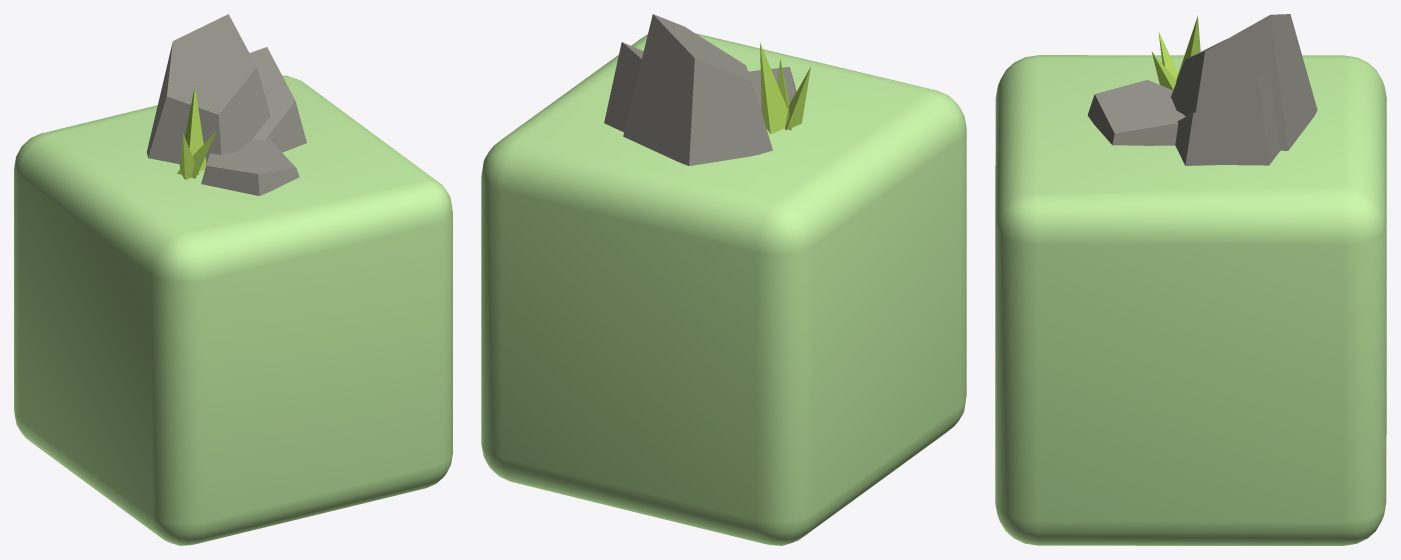
File: stone1.fbx
The picture shows the model from 3 angles, left to right: view 1: azimuth 30°, elevation 25°; view 2: azimuth 150°, elevation 25°; view 3: azimuth 270°, elevation 25°; orthographic projection. The views are drawn at different scales.
Parts seen in each view (by area): view 1: Cube.024; view 2: Cube.024; view 3: Cube.024.
Boxes of the visible parts, left/top/right/bottom form: Cube.024: left=14, top=14, right=452, bottom=545; Cube.024: left=481, top=14, right=966, bottom=545; Cube.024: left=995, top=14, right=1386, bottom=545.
Size of the model in its own units: 200 by 271 by 200.
